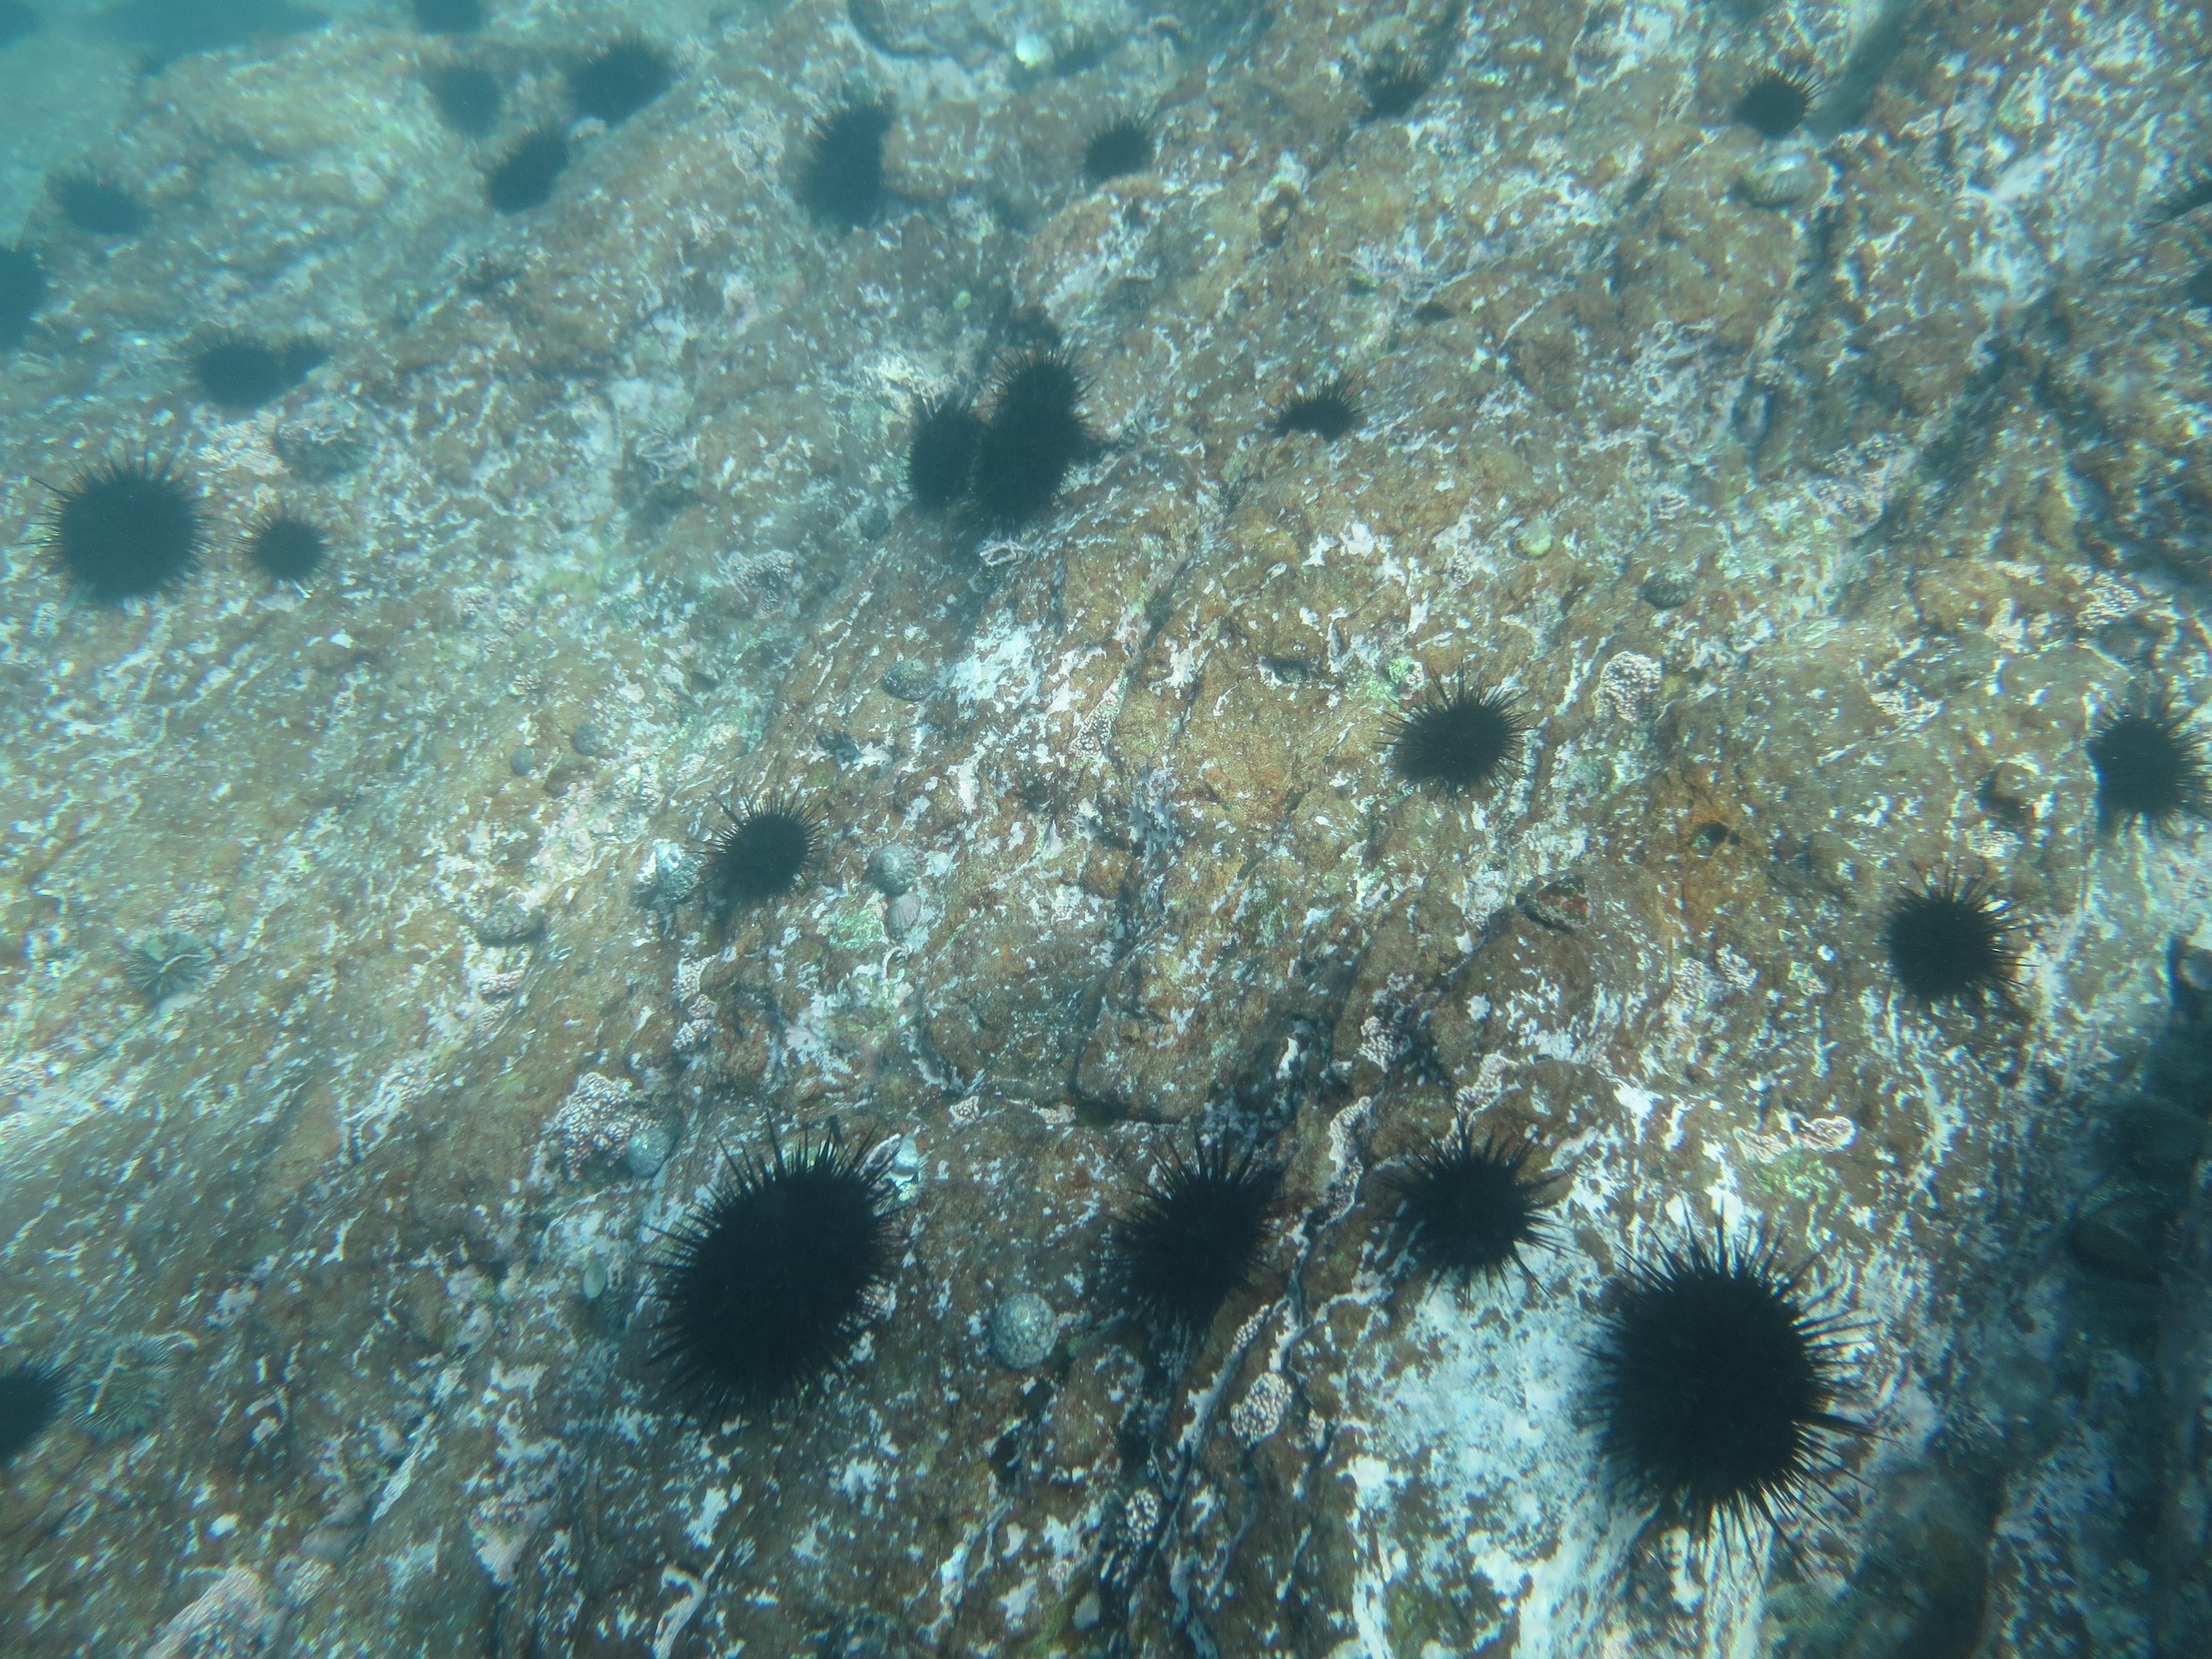urchin: (1566, 1215, 1860, 1581), (643, 1108, 916, 1431), (1123, 1110, 1296, 1333), (21, 443, 218, 619), (1379, 1134, 1573, 1305), (1876, 863, 2027, 1018), (1386, 683, 1529, 796), (695, 802, 822, 903), (233, 493, 341, 596), (1733, 64, 1815, 141)
